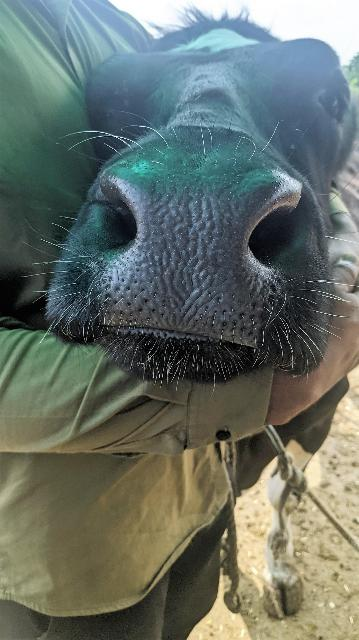Muzzle: (138, 181, 248, 333)
